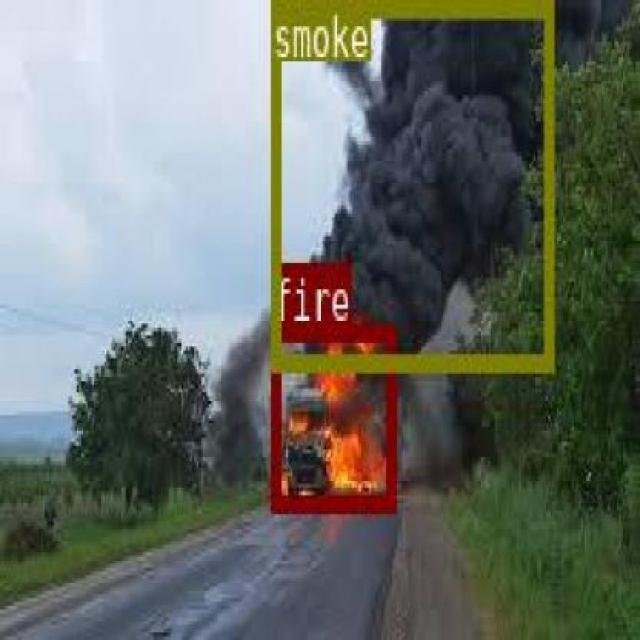Fire: (269, 322, 394, 510)
Smoke: (272, 0, 550, 369)
